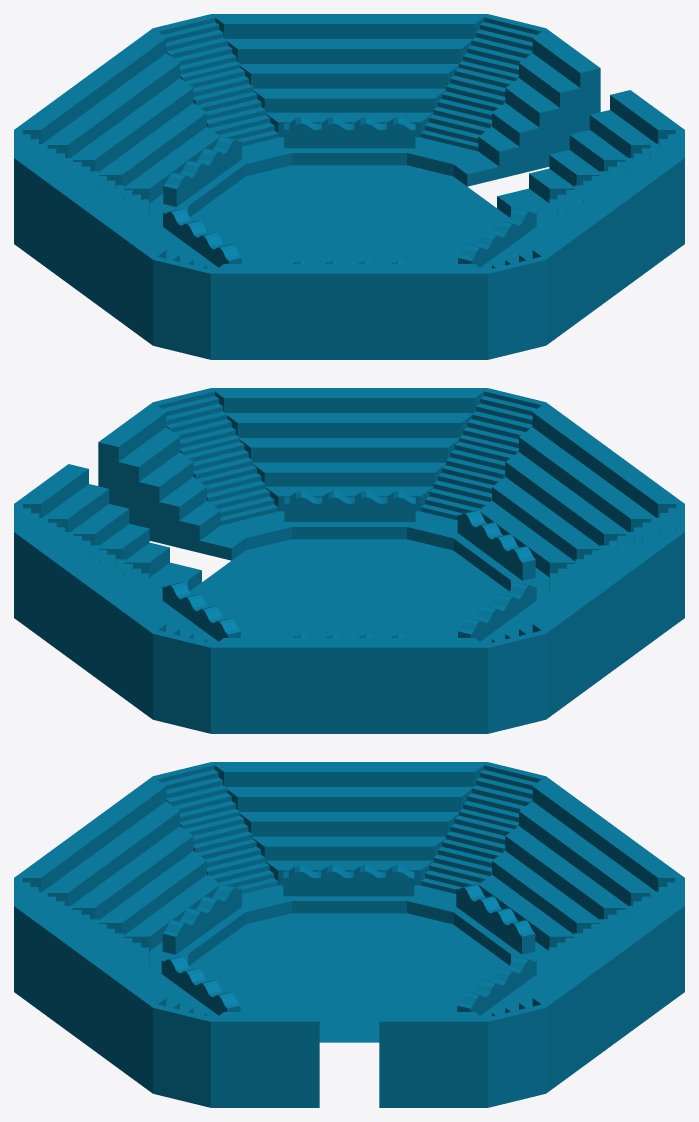
The model's file is Harrow 1.fbx.
3 renders of one model, top to bottom at view 1: azimuth 30°, elevation 25°; view 2: azimuth 150°, elevation 25°; view 3: azimuth 270°, elevation 25°, orthographic.
Visible parts, largest first — view 1: polySurface168; view 2: polySurface168; view 3: polySurface168.
Part boxes in pixels (x1,y1,x2,y2): polySurface168: (14,14,684,359); polySurface168: (14,388,684,733); polySurface168: (14,762,684,1107).
Bounding box in the file's own units: 56.79 × 8.77 × 62.02.
